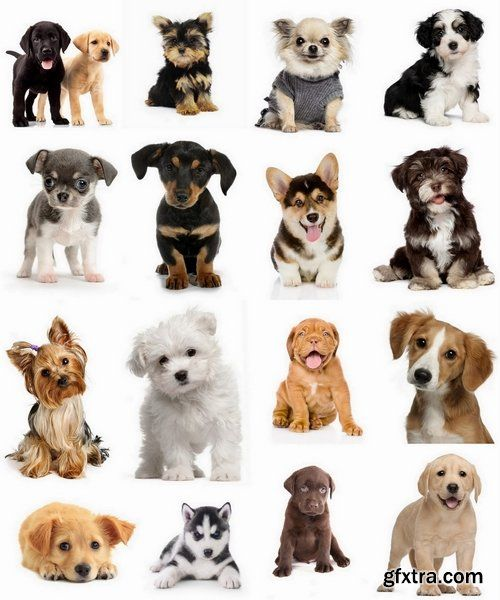dog: (123, 306, 234, 482), (127, 135, 244, 298), (366, 149, 500, 290), (380, 291, 500, 448), (4, 144, 125, 298), (3, 313, 113, 472), (254, 153, 359, 298), (263, 303, 367, 441), (385, 444, 492, 575), (380, 2, 491, 123), (256, 7, 356, 139), (267, 459, 362, 577), (17, 497, 137, 587), (148, 492, 250, 594), (138, 9, 227, 117), (1, 16, 74, 124), (55, 30, 127, 122)
